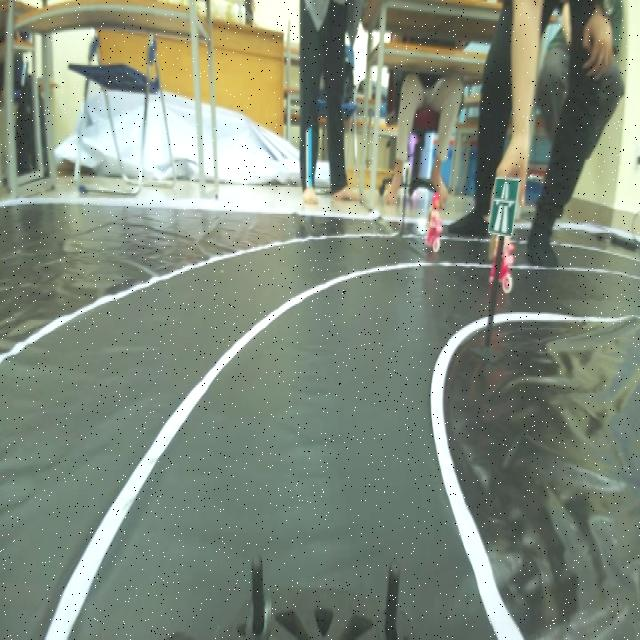highway_entry: (491, 176, 516, 239)
pedestrian: (487, 240, 518, 294), (424, 187, 446, 252)
